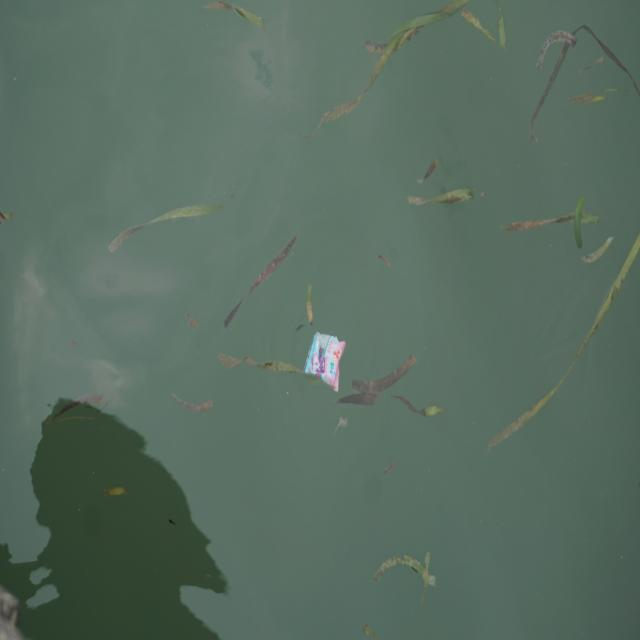Bungkus Makanan: (305, 327, 346, 396)
